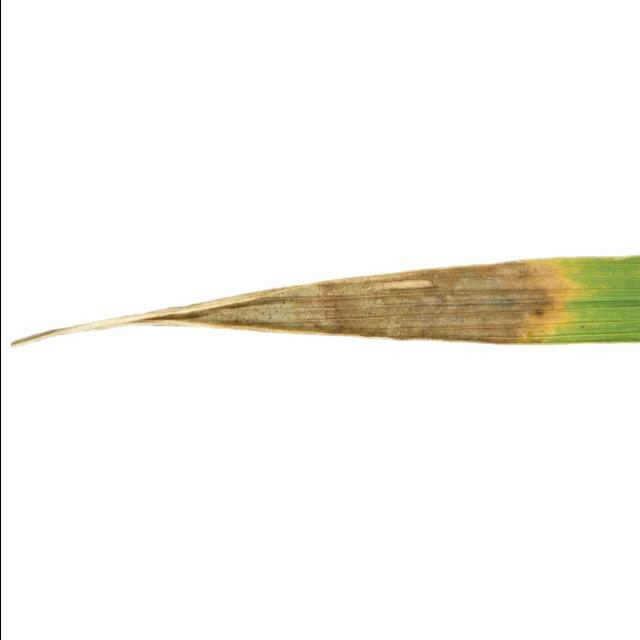Leaf scald: (0, 190, 640, 416)
